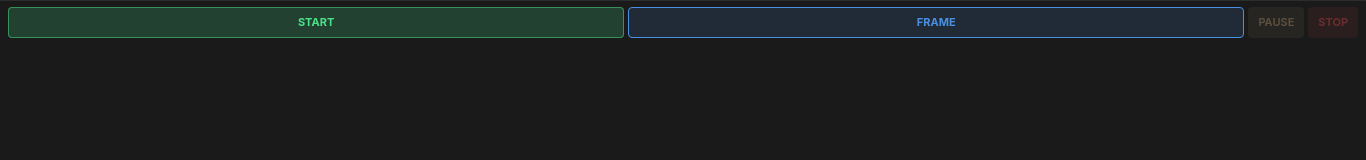
Scenario: MachinePanel START/FRAME gating (F15) › FRAME no-ops with a console error on empty moves (never G0 XInfinity)
The image size is (1366, 160).
What coordinates should you click on to do the following:
click the button "FRAME"
I would click on:
 (936, 22)
Its box is left=628, top=7, right=1244, bottom=38.
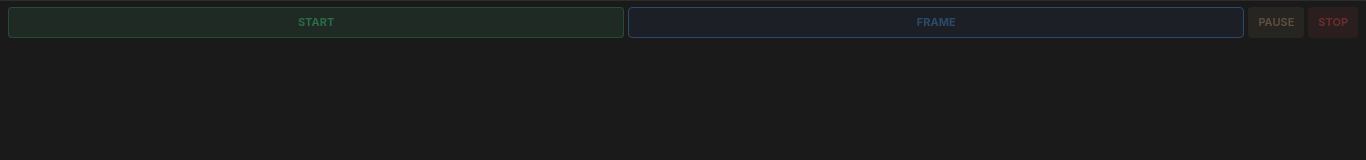
Now the button "FRAME" is disabled, box left=628, top=7, right=1244, bottom=38
